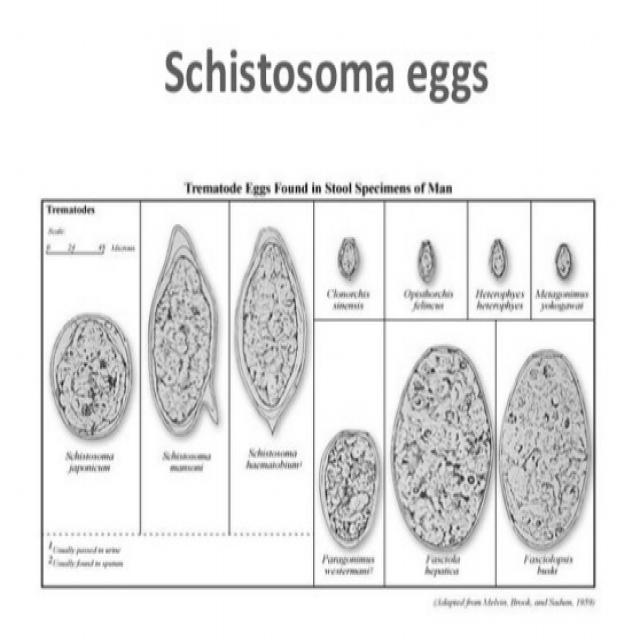Fasciola Hepatica: (386, 338, 497, 554), (496, 343, 594, 559)
Schistosoma: (145, 218, 220, 446), (233, 222, 310, 442), (48, 306, 132, 444)
